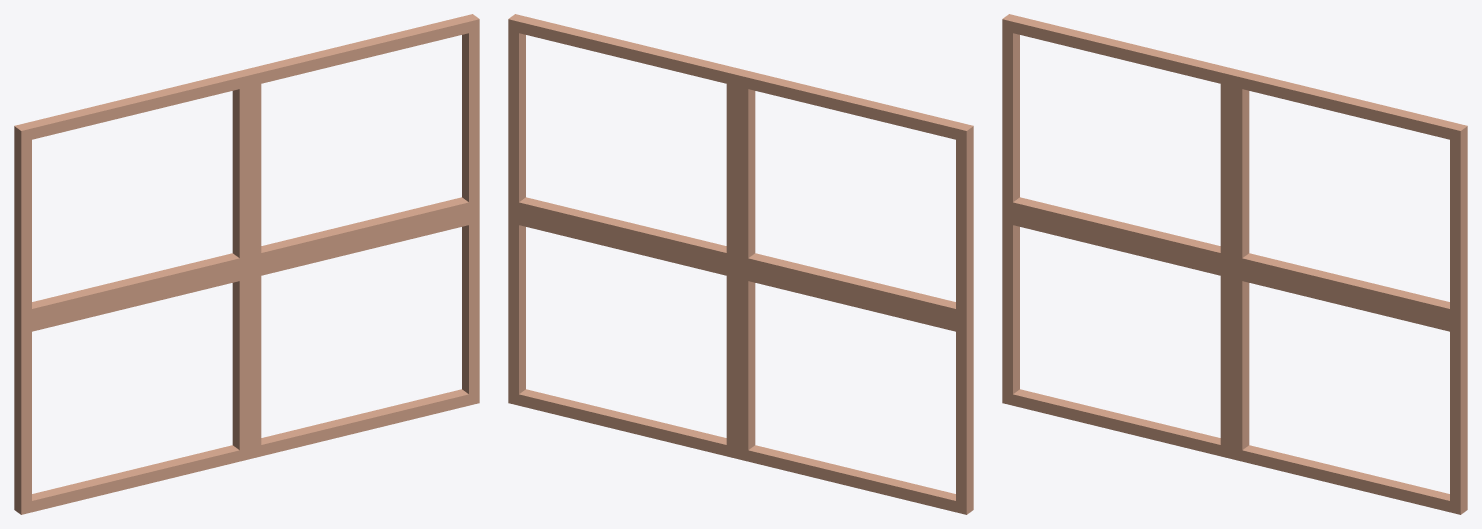
The model's file is env_window_frame_2m.fbx.
3 views of the same model, side by side, from view 1: azimuth 30°, elevation 25°; view 2: azimuth 150°, elevation 25°; view 3: azimuth 330°, elevation 25° (orthographic).
Parts seen in each view (by area): view 1: Casa ventana cuadro 2m; view 2: Casa ventana cuadro 2m; view 3: Casa ventana cuadro 2m.
Boxes of the visible parts, x1,y1,x2,y2 form: Casa ventana cuadro 2m: (14,14,479,514); Casa ventana cuadro 2m: (508,14,973,514); Casa ventana cuadro 2m: (1002,14,1467,514).
Size of the model in its own units: 150 by 120 by 4.
Materials: 1 (1 with a texture image).
